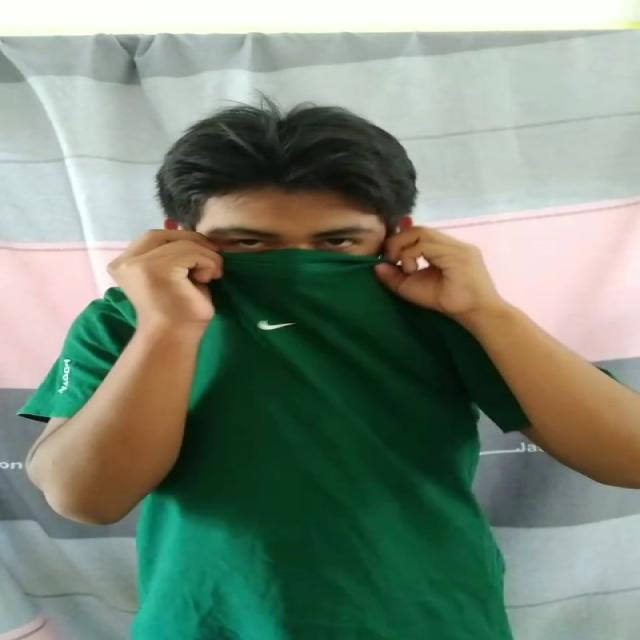8_ropa_rostro: (140, 238, 453, 335)
